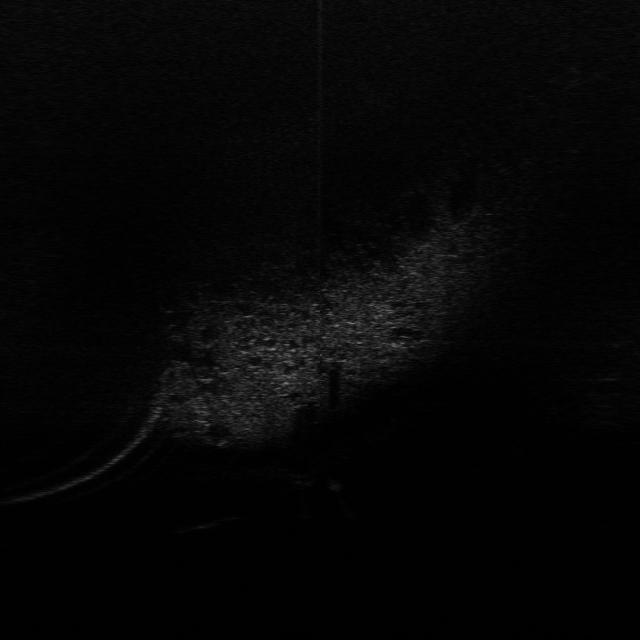cube: (282, 468, 319, 489)
cylinder: (327, 475, 344, 493)
